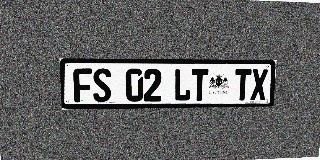0: (125, 68, 143, 102)
2: (144, 69, 161, 102)
F: (73, 68, 93, 102)
L: (174, 69, 191, 101)
S: (92, 68, 111, 102)
T: (234, 69, 252, 100), (191, 69, 208, 101)
X: (250, 69, 268, 100)
